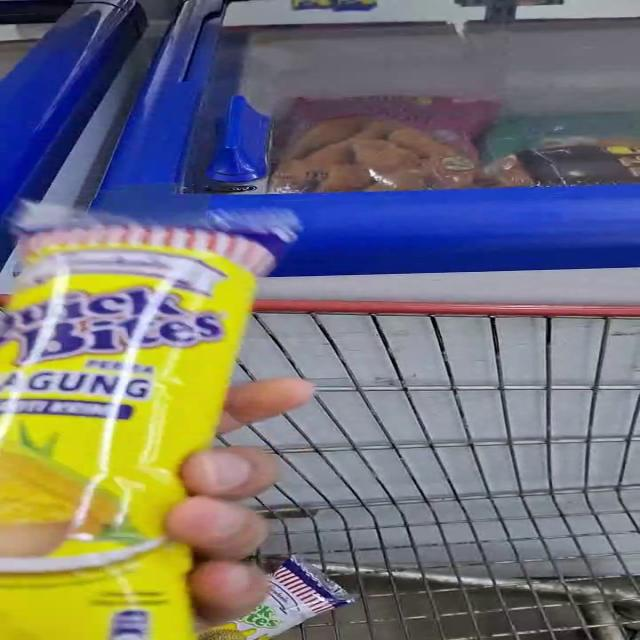Roti: (0, 211, 235, 640), (242, 558, 376, 640)
